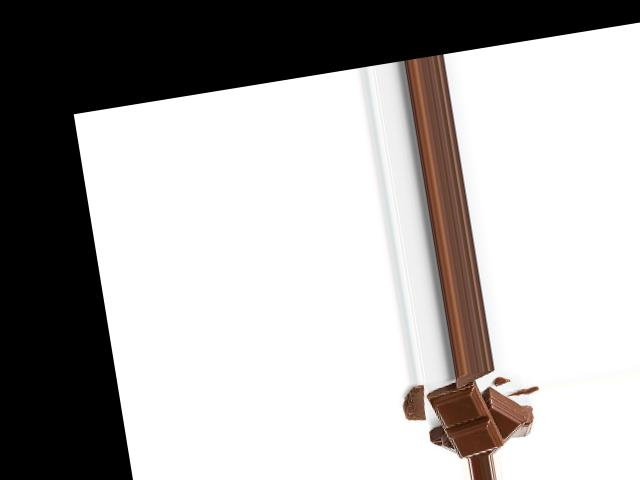chocolate: (428, 378, 505, 458)
